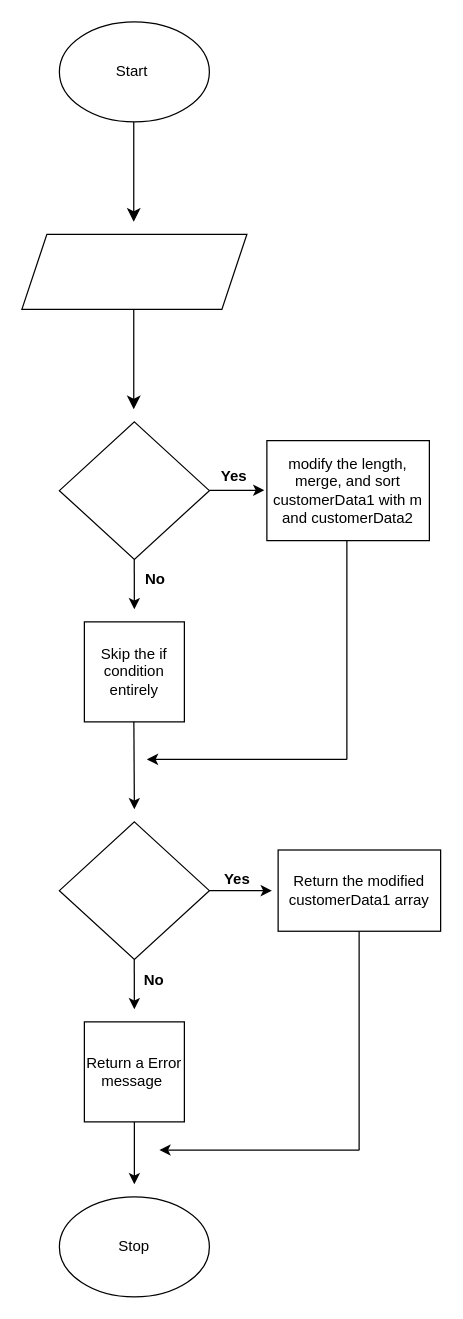
This 463x1319 diagram has some shape labels left out. The shapes that lost their labels are listed below. From the top down, each one's box as (x1, y1, x2, y2) in pixels, then its label:
(21, 233, 247, 309): input customerData1, customerData2, m, and n
(58, 421, 209, 559): Is n not equal to 0?
(58, 821, 209, 959): Is every element in the array a positive integer?
